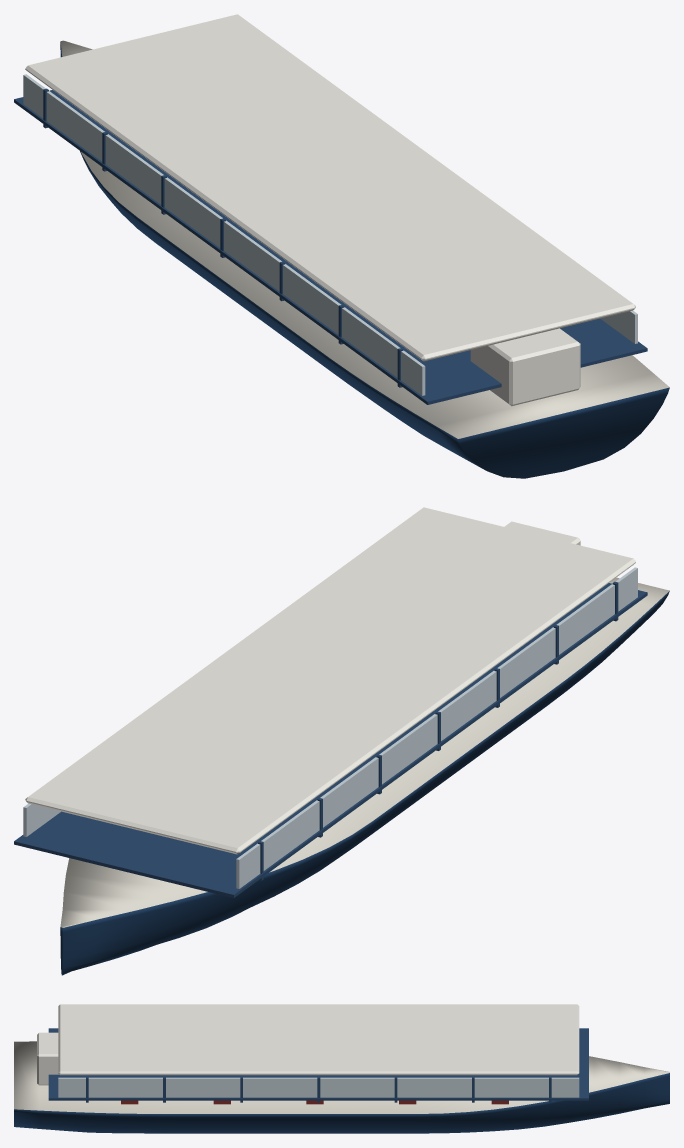
File: tour.glb
3 views of the same model, one above another, from view 1: azimuth 30°, elevation 25°; view 2: azimuth 150°, elevation 25°; view 3: azimuth 270°, elevation 25° (orthographic). The views are drawn at different scales.
Parts seen in each view (by area): view 1: Cube, hull, Cube.001, Cube.017, Cube.028, Cube.009; view 2: Cube, hull, Cube.017, Cube.001, Cube.009; view 3: Cube, hull, Cube.009, Cube.017, Cube.028.
Part boxes in pixels (left/top/right/bottom): Cube: left=25, top=14, right=635, bottom=361; hull: left=60, top=40, right=669, bottom=478; Cube.001: left=23, top=74, right=425, bottom=395; Cube.017: left=14, top=90, right=647, bottom=404; Cube.028: left=470, top=328, right=580, bottom=406; Cube.009: left=600, top=310, right=637, bottom=343; Cube: left=25, top=507, right=635, bottom=854; hull: left=60, top=577, right=669, bottom=975; Cube.017: left=14, top=583, right=647, bottom=897; Cube.001: left=236, top=567, right=637, bottom=888; Cube.009: left=23, top=803, right=60, bottom=836; Cube: left=58, top=1004, right=579, bottom=1075; hull: left=14, top=1041, right=669, bottom=1133; Cube.009: left=58, top=1077, right=579, bottom=1097; Cube.017: left=48, top=1028, right=588, bottom=1100; Cube.028: left=37, top=1032, right=58, bottom=1085.
Size of the model in its own units: 4.6 by 2.31 by 17.
